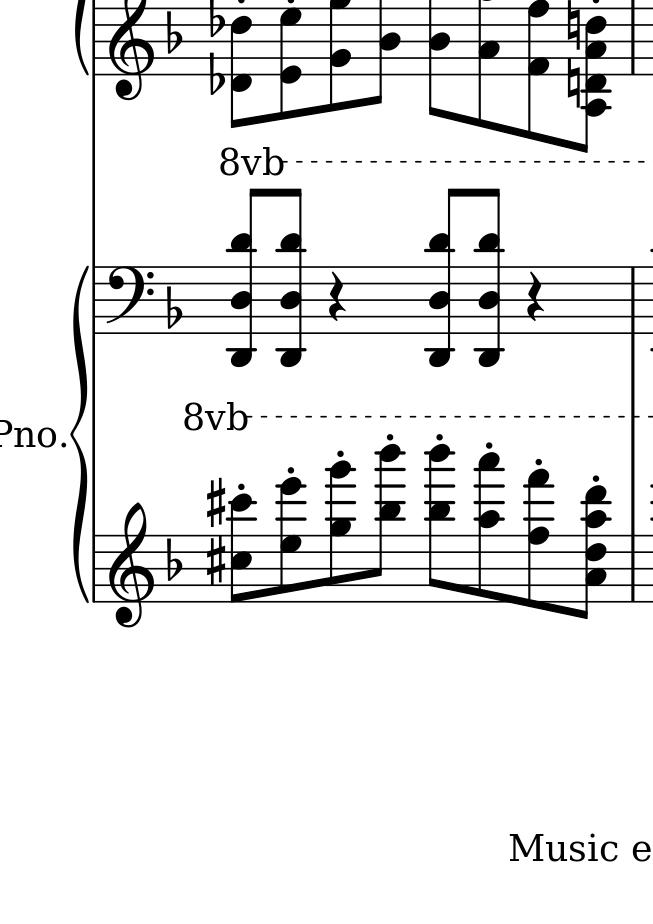8_10_17: (475, 452, 503, 606)
8_11_18: (368, 443, 405, 605), (425, 442, 457, 604)
8_4th: (567, 485, 613, 623), (579, 7, 611, 157)
8_5_12: (227, 494, 258, 605)
8_7_14: (274, 476, 308, 605)
8_8_15: (524, 467, 556, 611)
8_9_16: (324, 459, 354, 604)
8_th: (422, 187, 467, 373), (227, 187, 268, 370), (275, 186, 309, 371), (473, 185, 505, 370)
Brace: (70, 266, 91, 603)
Fclef: (103, 265, 154, 337)
Flat: (163, 283, 185, 330), (163, 537, 185, 584), (163, 8, 184, 57), (207, 51, 225, 98), (206, 1, 224, 39)
Gclef: (106, 502, 156, 631), (107, 1, 154, 103)
Natural: (565, 57, 582, 110), (565, 1, 582, 51)
Pno: (1, 417, 57, 453)
Rests4: (324, 271, 348, 326), (523, 270, 547, 324)
Sharp: (201, 535, 228, 588), (205, 476, 226, 529)
Single_barline: (87, 7, 106, 74), (626, 1, 641, 75), (625, 267, 641, 332), (626, 535, 641, 600), (88, 268, 103, 332), (89, 535, 102, 602)
